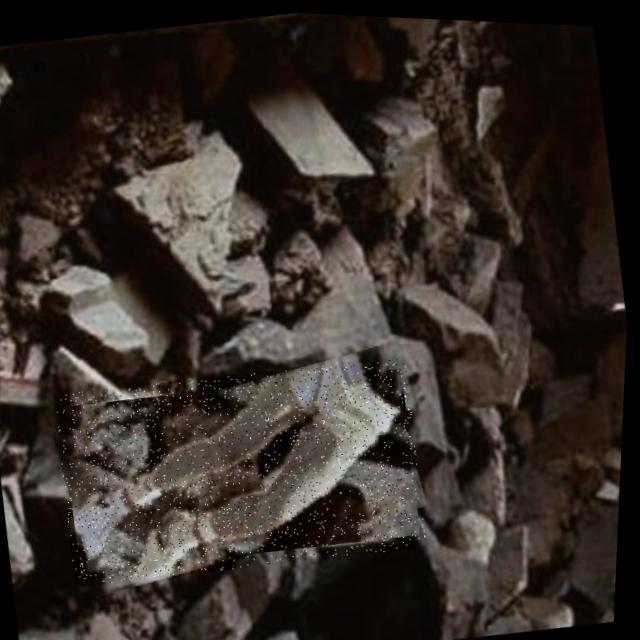Person in Rubble: (50, 339, 437, 598)
